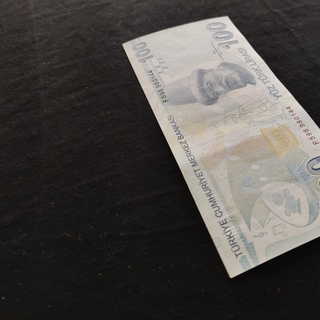100TLBack: (121, 15, 320, 279)
